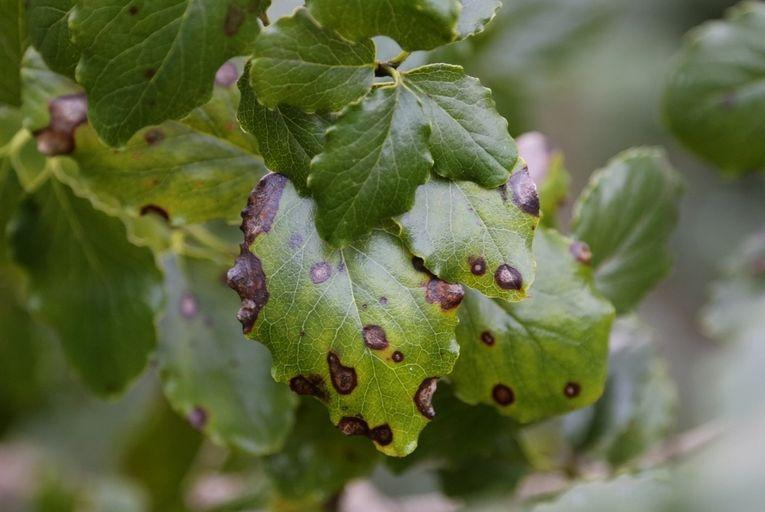black-spot: (297, 244, 400, 391), (459, 236, 533, 337)
